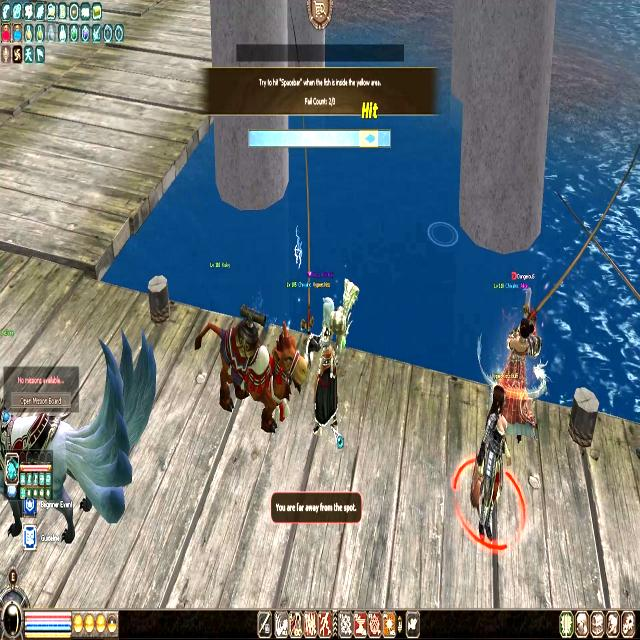fishes: (363, 132, 376, 145)
